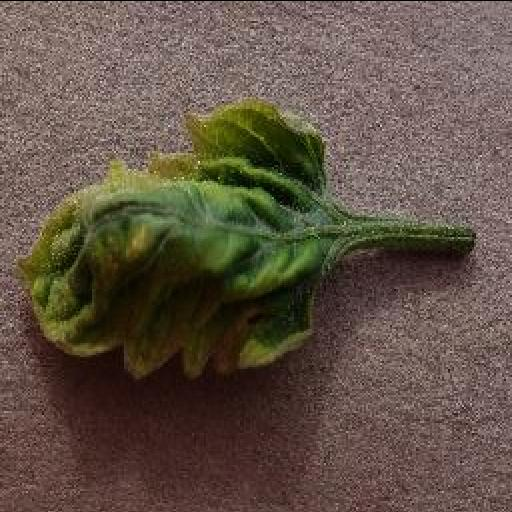disease_tomato: (14, 100, 334, 384)
